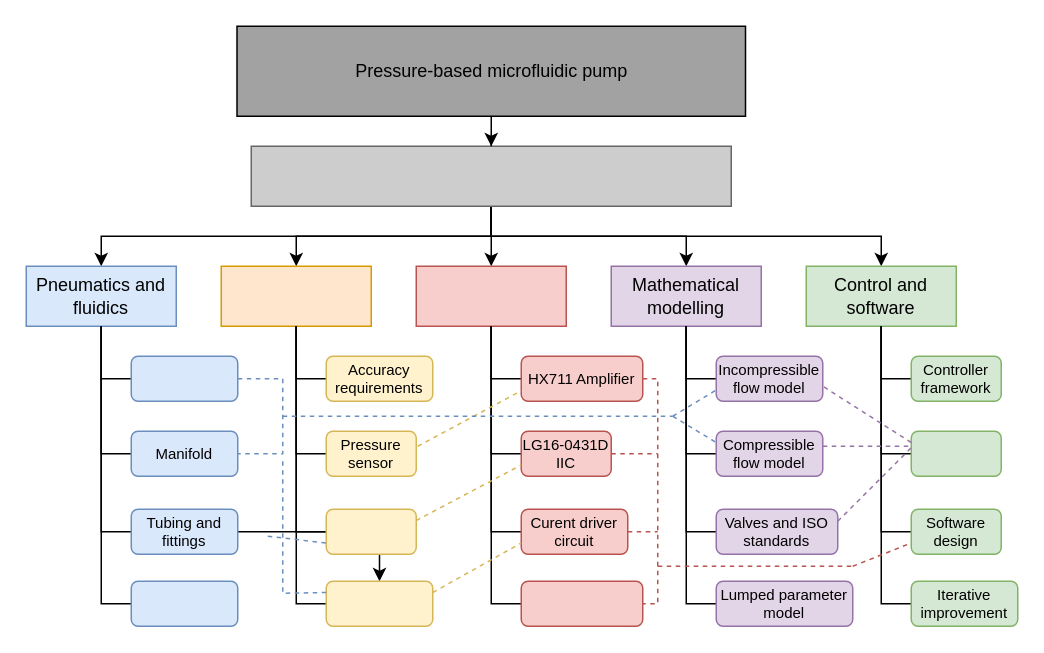
Some shapes in this 1044 by 653 pixel diagram are drawn without their labels. Here are the shapes that lost their labels. From the top down, the centre of each, then its label:
At point (490, 175): "System requirements".
At point (295, 295): "Sensing and instrumentation".
At point (490, 295): "Electronics and user interface".
At point (184, 378): "Fluid reservoir".
At point (955, 453): "System model".
At point (370, 531): "Flow rate sensor".
At point (184, 603): "Pressure regulation".
At point (379, 603): "Proportional valves".
At point (581, 603): "User interface (UI)".
